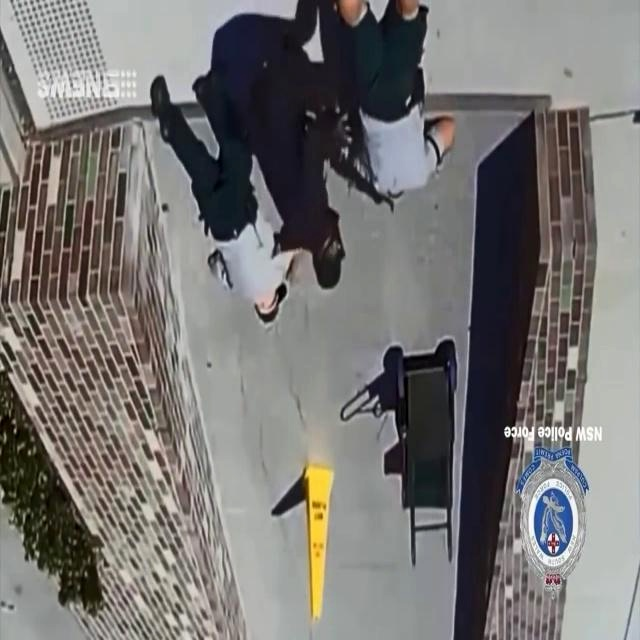gun: (320, 141, 399, 218)
